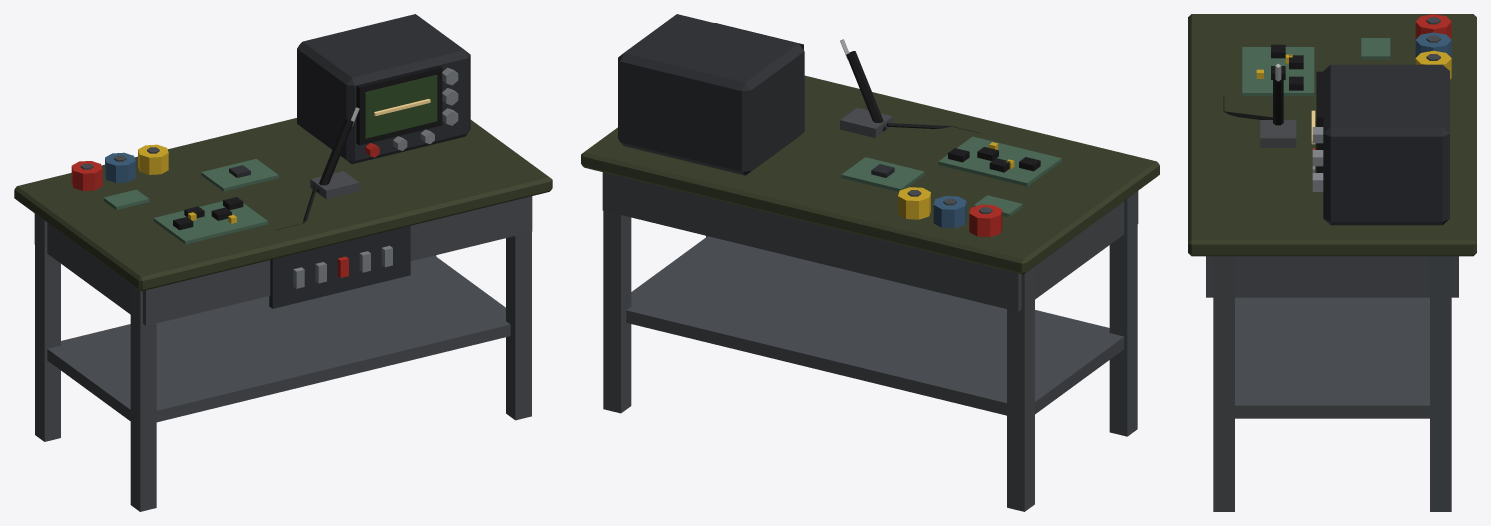
File: piece_electronics.fbx
The picture shows the model from 3 angles, left to right: view 1: azimuth 30°, elevation 25°; view 2: azimuth 150°, elevation 25°; view 3: azimuth 270°, elevation 25°; orthographic projection. The views are drawn at different scales.
Visible parts, largest first — view 1: piece_electronics; view 2: piece_electronics; view 3: piece_electronics.
Boxes of the visible parts, x1,y1,x2,y2 form: piece_electronics: (14,14,552,511); piece_electronics: (581,14,1159,511); piece_electronics: (1188,14,1476,511).
Size of the model in its own units: 1.5 by 1.15 by 0.8.
